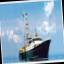fishing boat: (14, 3, 53, 64)
